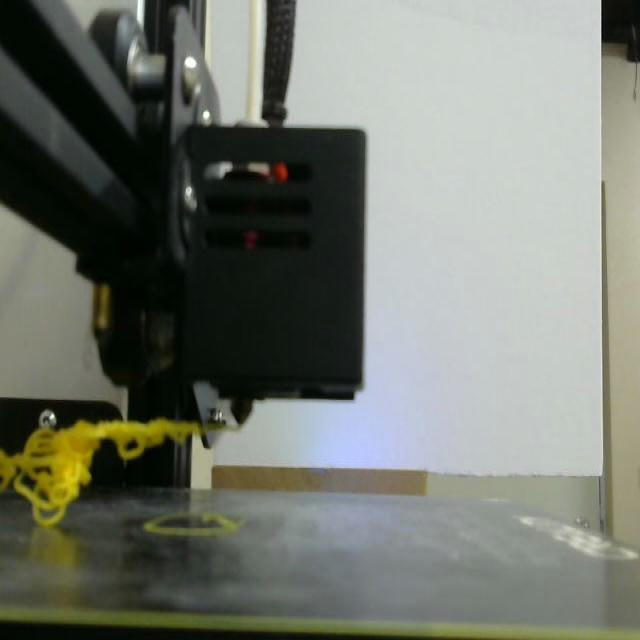spaghetti: (0, 418, 202, 526)
